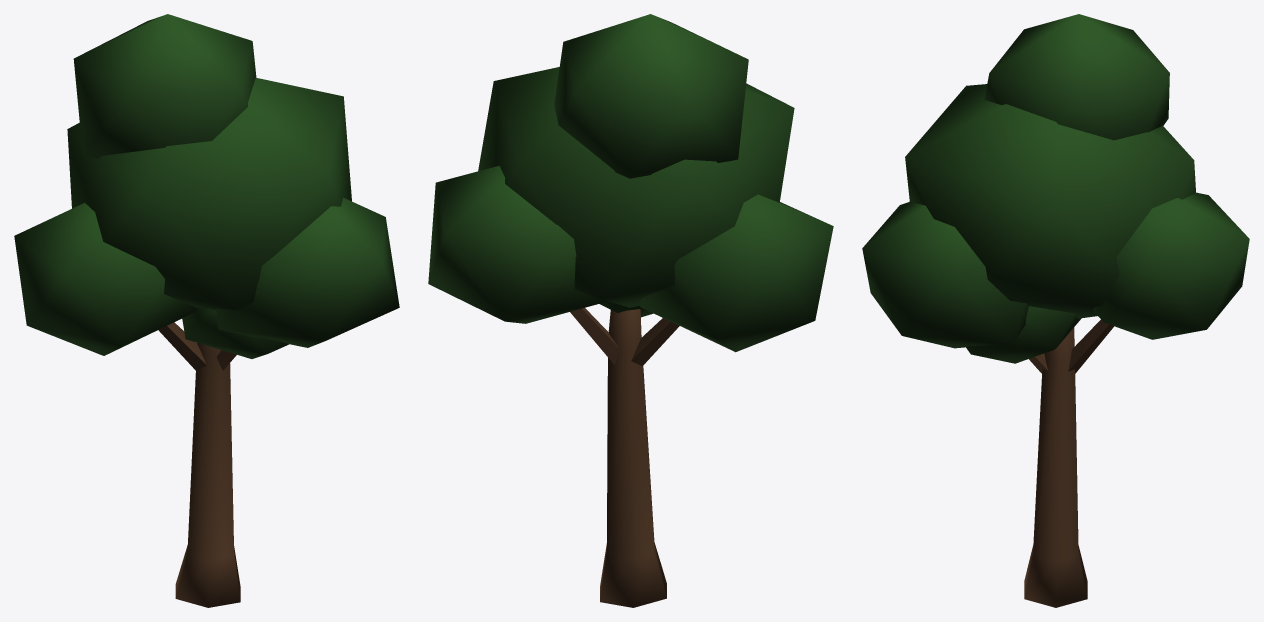
File: tree_oak_b_lod1.glb
The picture shows the model from 3 angles, left to right: view 1: azimuth 30°, elevation 25°; view 2: azimuth 150°, elevation 25°; view 3: azimuth 270°, elevation 25°; orthographic projection. The views are drawn at different scales.
Visible parts, largest first — view 1: leaves, leaves.004, leaves.003, leaves.002, trunk, leaves.005, branch.001; view 2: leaves, leaves.004, leaves.002, leaves.001, trunk, branch.001, branch; view 3: leaves, leaves.004, leaves.001, leaves.003, trunk, leaves.005, branch.
Part boxes in pixels (x1,y1,x2,y2): leaves: (67,77,351,310); leaves.004: (73,14,256,158); leaves.003: (216,197,399,347); leaves.002: (14,203,195,355); trunk: (175,342,240,607); leaves.005: (182,307,288,358); branch.001: (158,322,206,370); leaves: (478,67,794,307); leaves.004: (554,14,748,178); leaves.002: (640,194,833,352); leaves.001: (428,165,607,323); trunk: (600,309,666,607); branch.001: (631,318,679,366); branch: (570,308,619,364); leaves: (905,84,1195,318); leaves.004: (984,14,1169,140); leaves.001: (1093,192,1249,339); leaves.003: (862,201,1028,348); trunk: (1024,327,1087,607); leaves.005: (966,306,1081,363); branch: (1068,320,1113,373).
Size of the model in its own units: 2.37 by 4.08 by 2.54.
